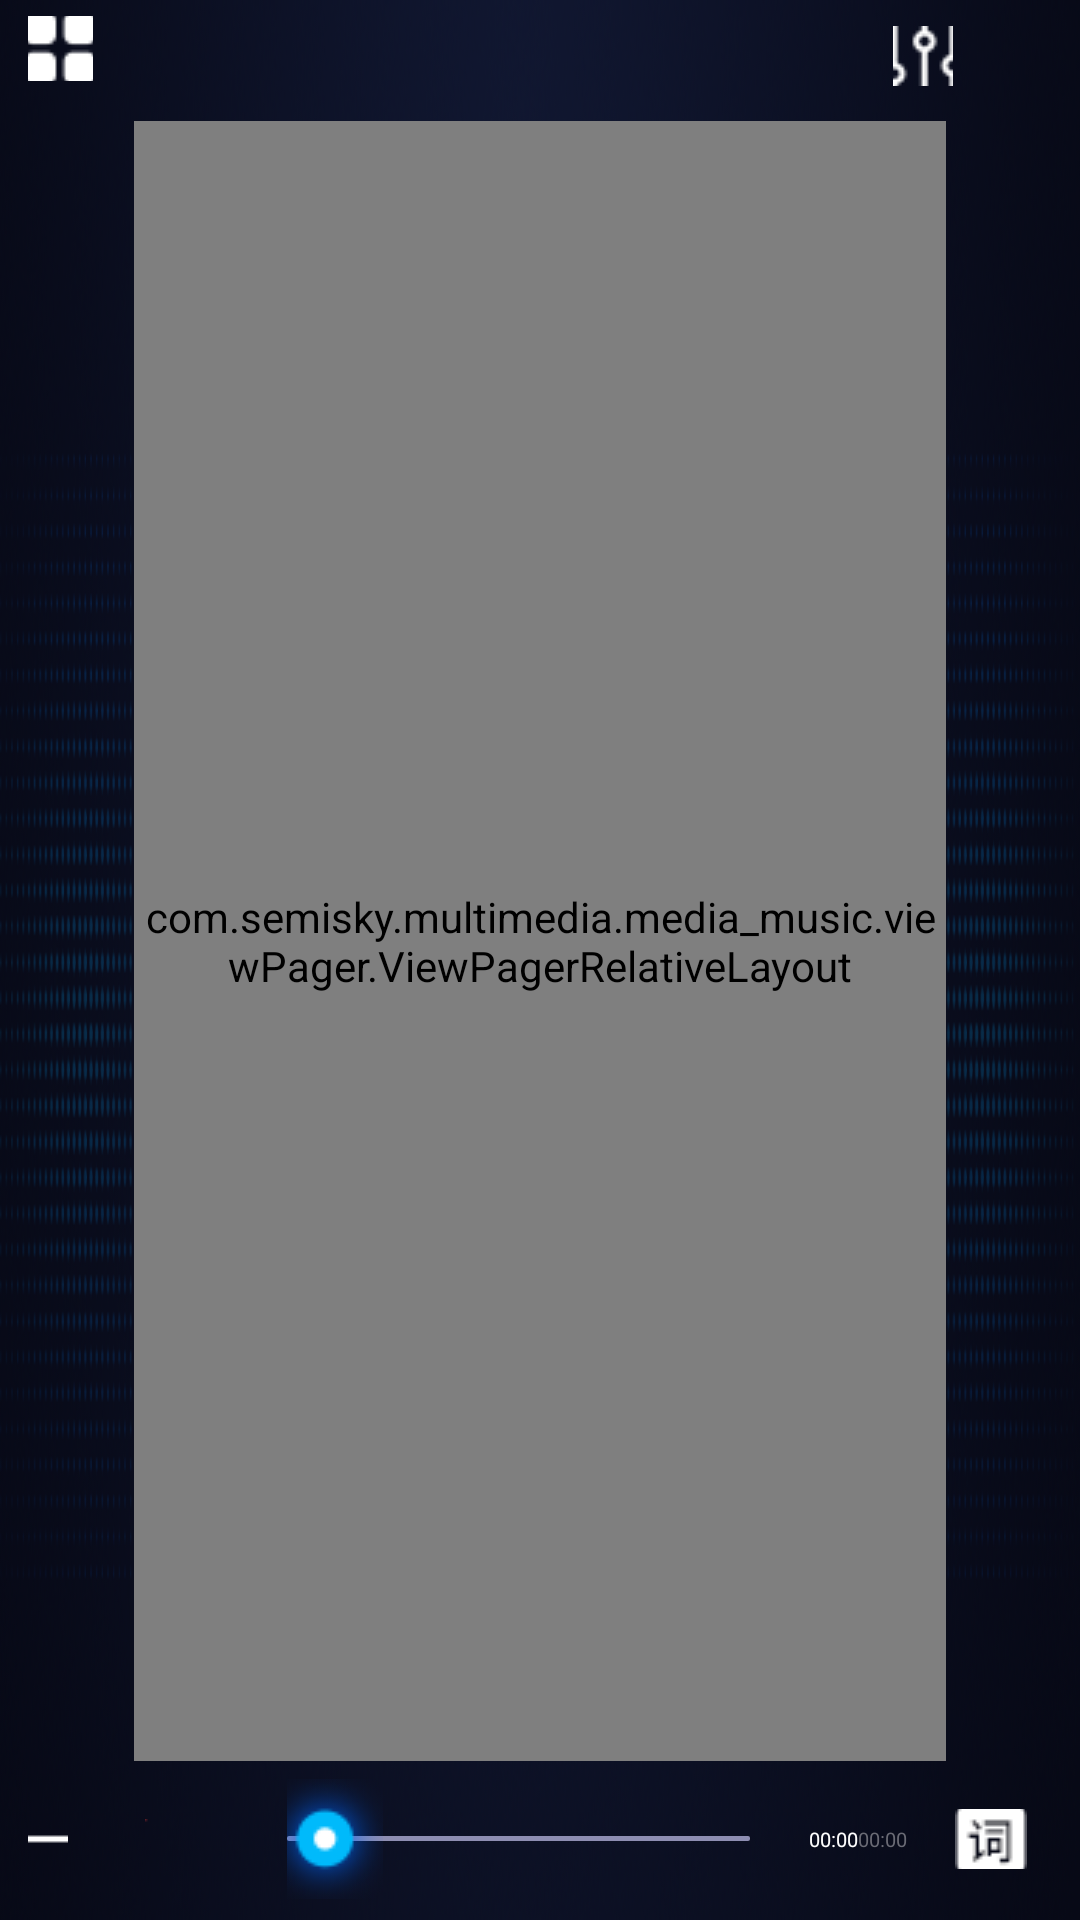

Screen size 1080 × 1920. Icon name, then its box in pixels as (x1=x1, y1=y1, x2=x2, y2=y2):
music list: (x1=28, y1=16, x2=93, y2=81)
sound: (x1=893, y1=26, x2=953, y2=86)
